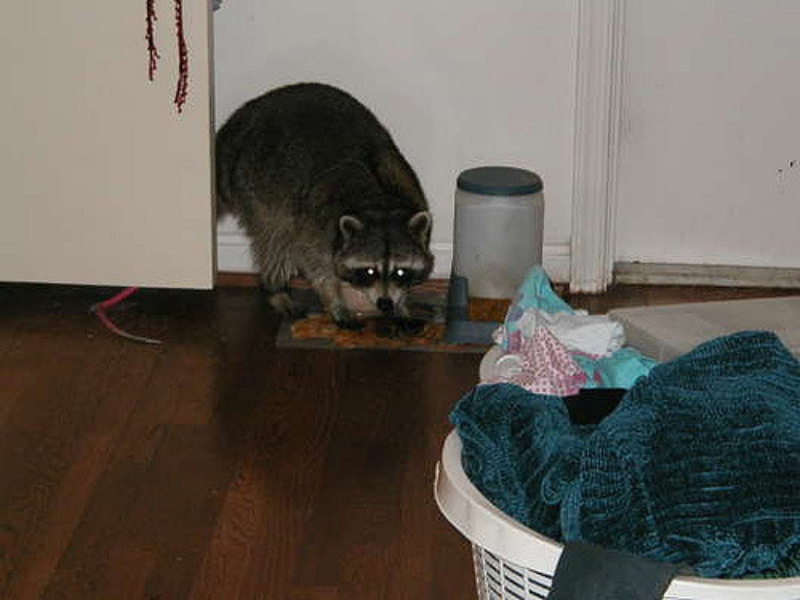raccoon: (190, 77, 440, 335)
